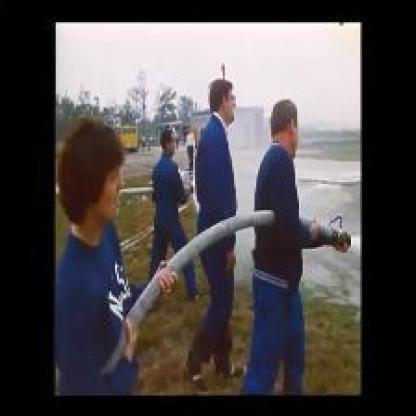other: (115, 124, 144, 155)
